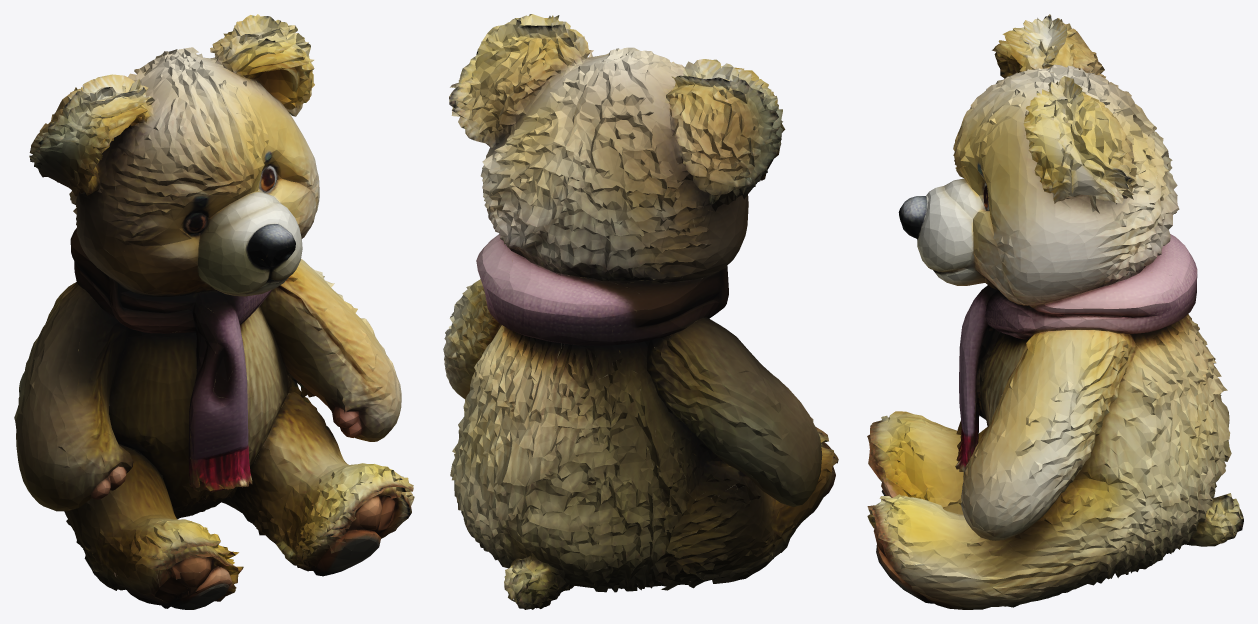
Rendered from realistic bear 2.glb.
3 renders of one model, left to right at view 1: azimuth 30°, elevation 25°; view 2: azimuth 150°, elevation 25°; view 3: azimuth 270°, elevation 25°, orthographic. The views are drawn at different scales.
Parts seen in each view (by area): view 1: world; view 2: world; view 3: world.
Part boxes in pixels (x1=…): world: x1=14, y1=14, x2=414, y2=609; world: x1=443, y1=14, x2=838, y2=609; world: x1=867, y1=14, x2=1243, y2=609.
Size of the model in its own units: 0.7319 by 0.998 by 0.6694.
Materials: 1 (1 with a texture image).
